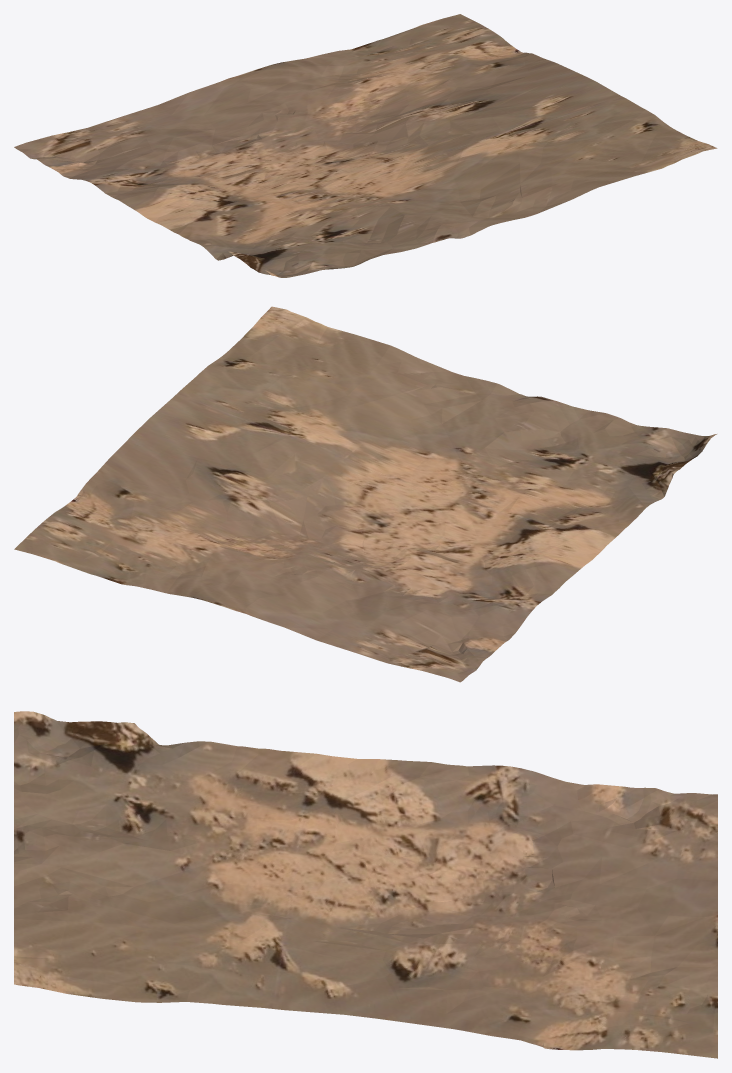
3 renders of one model, top to bottom at view 1: azimuth 30°, elevation 25°; view 2: azimuth 150°, elevation 25°; view 3: azimuth 270°, elevation 25°, orthographic. The views are drawn at different scales.
Bounding box in the file's own units: 2.09 × 0.362 × 2.09.
2 materials, 2 textured.
